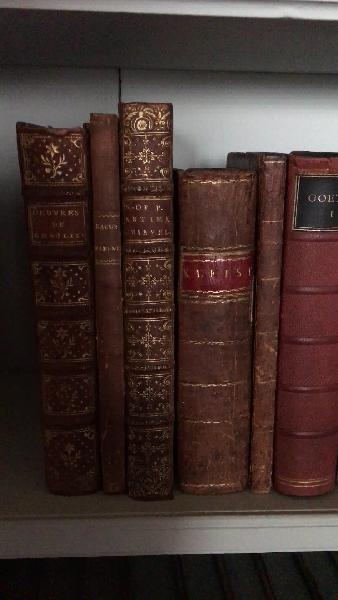Aa6-10: (253, 147, 284, 492)
Aa6-6: (15, 111, 101, 501)
Aa6-7: (90, 109, 125, 502)
Aa6-8: (120, 93, 177, 505)
Aa6-9: (172, 164, 253, 495)
